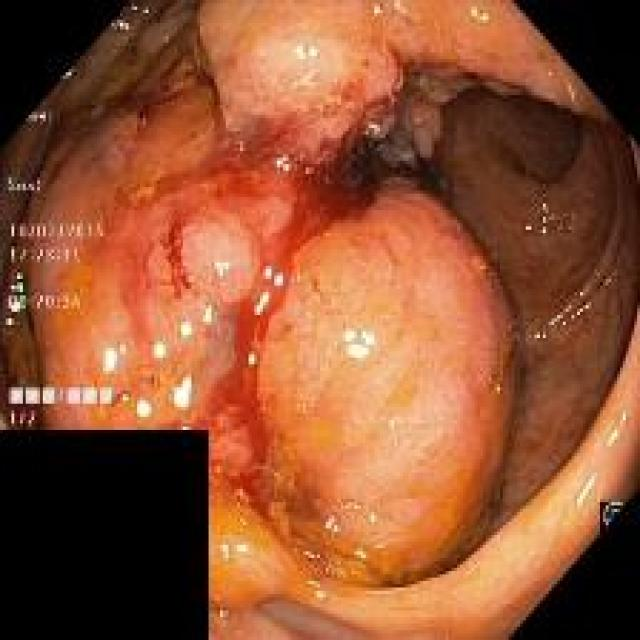Polyps: (259, 188, 515, 589), (198, 3, 402, 165), (180, 215, 260, 304)
